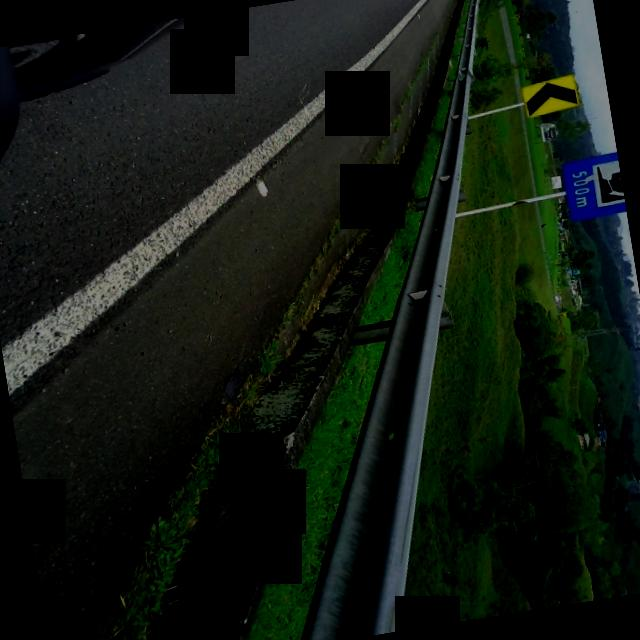DITCH: (0, 0, 627, 640), (0, 0, 576, 640)
